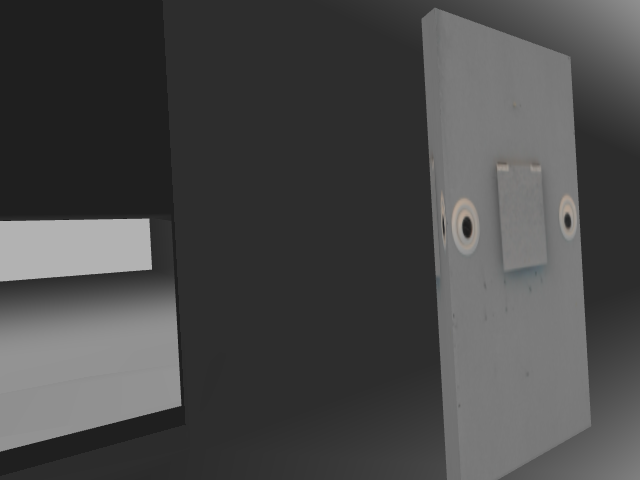facade: (448, 155, 579, 276)
